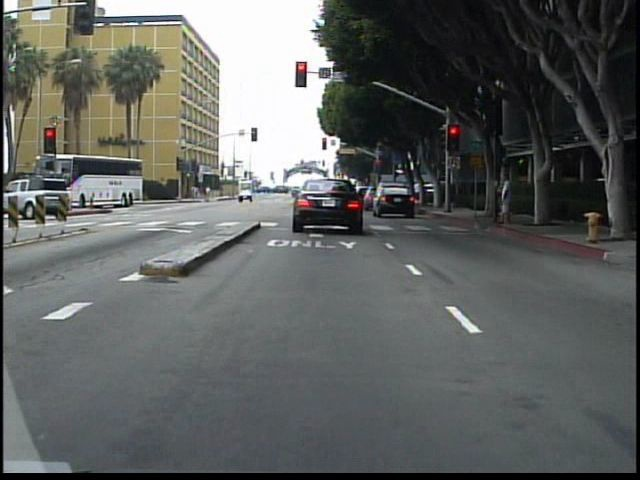person: (496, 169, 516, 227)
